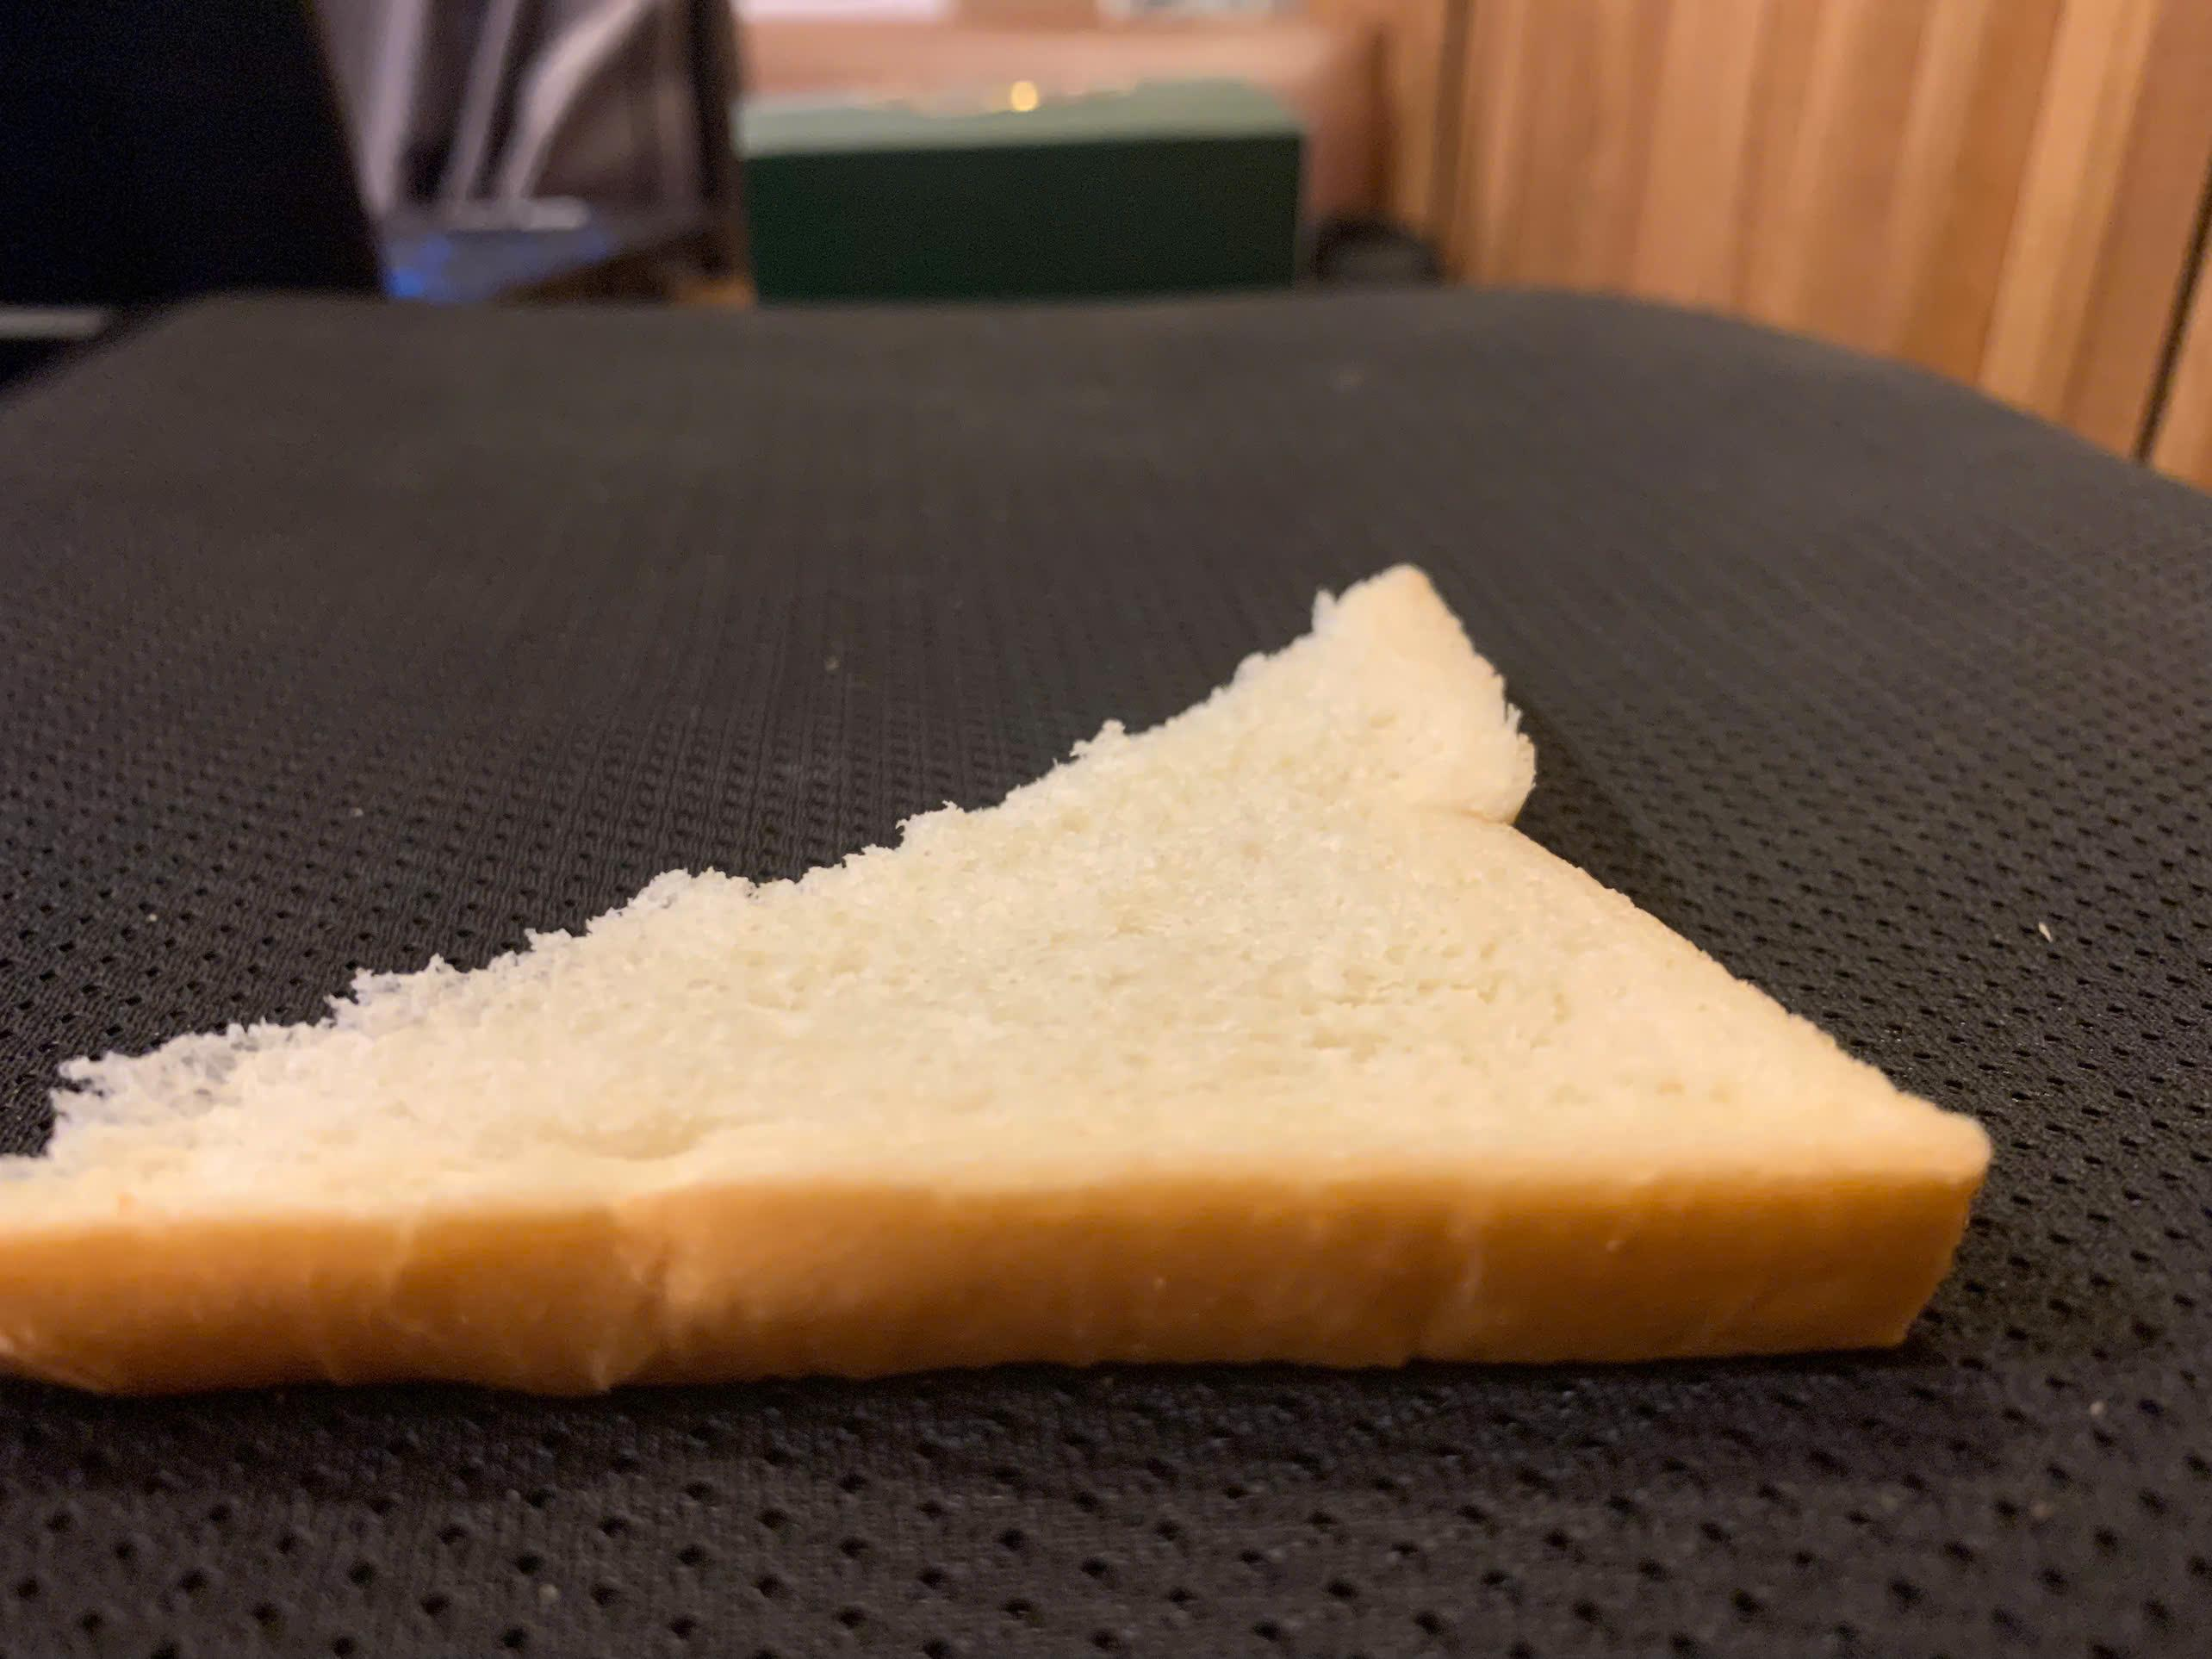Huu co: (6, 569, 1976, 1370)
